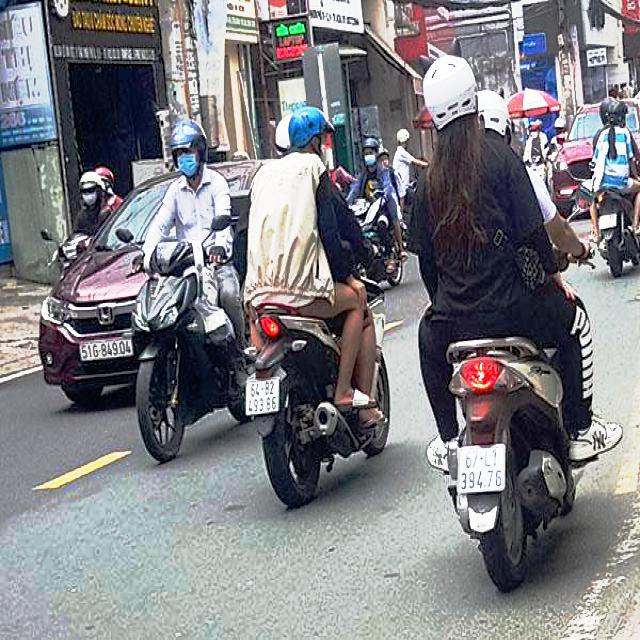license_plate: (458, 445, 507, 494), (81, 337, 135, 361), (246, 379, 280, 415)
